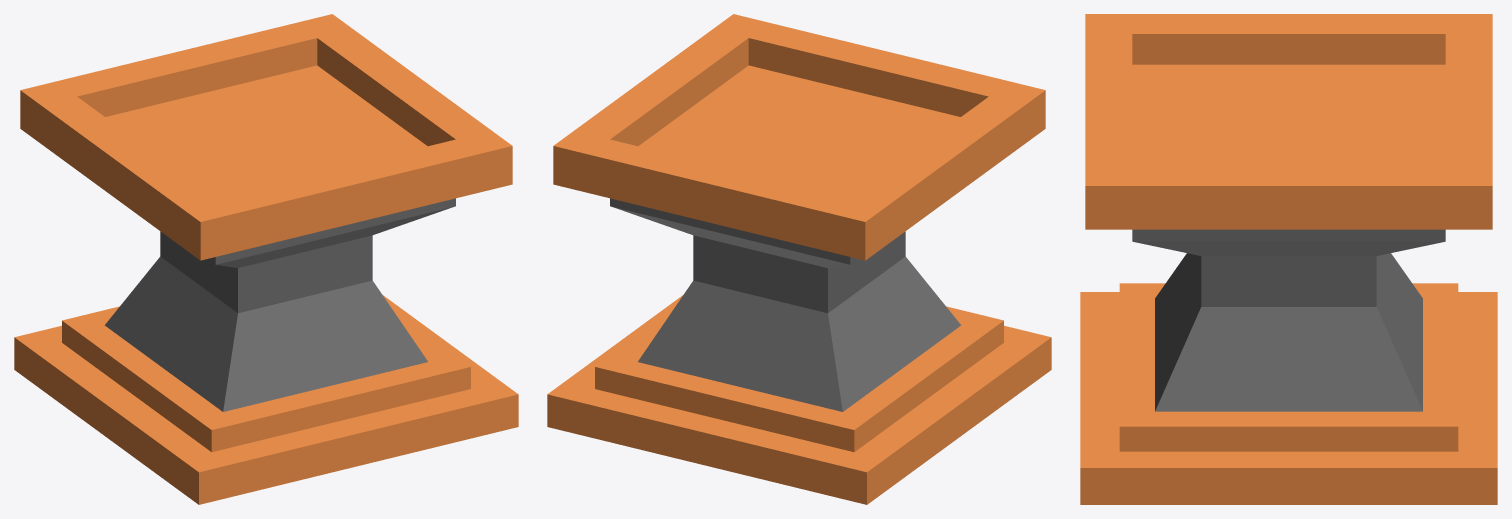
File: Orb Base 01.FBX
3 views of the same model, side by side, from view 1: azimuth 30°, elevation 25°; view 2: azimuth 150°, elevation 25°; view 3: azimuth 270°, elevation 25° (orthographic). The views are drawn at different scales.
Parts seen in each view (by area): view 1: Orb Base 01; view 2: Orb Base 01; view 3: Orb Base 01.
Part boxes in pixels (<box>): Orb Base 01: <box>14,14,518,504</box>; Orb Base 01: <box>547,14,1051,504</box>; Orb Base 01: <box>1080,14,1497,504</box>.
Bounding box in the file's own units: 168 × 141 × 168.
